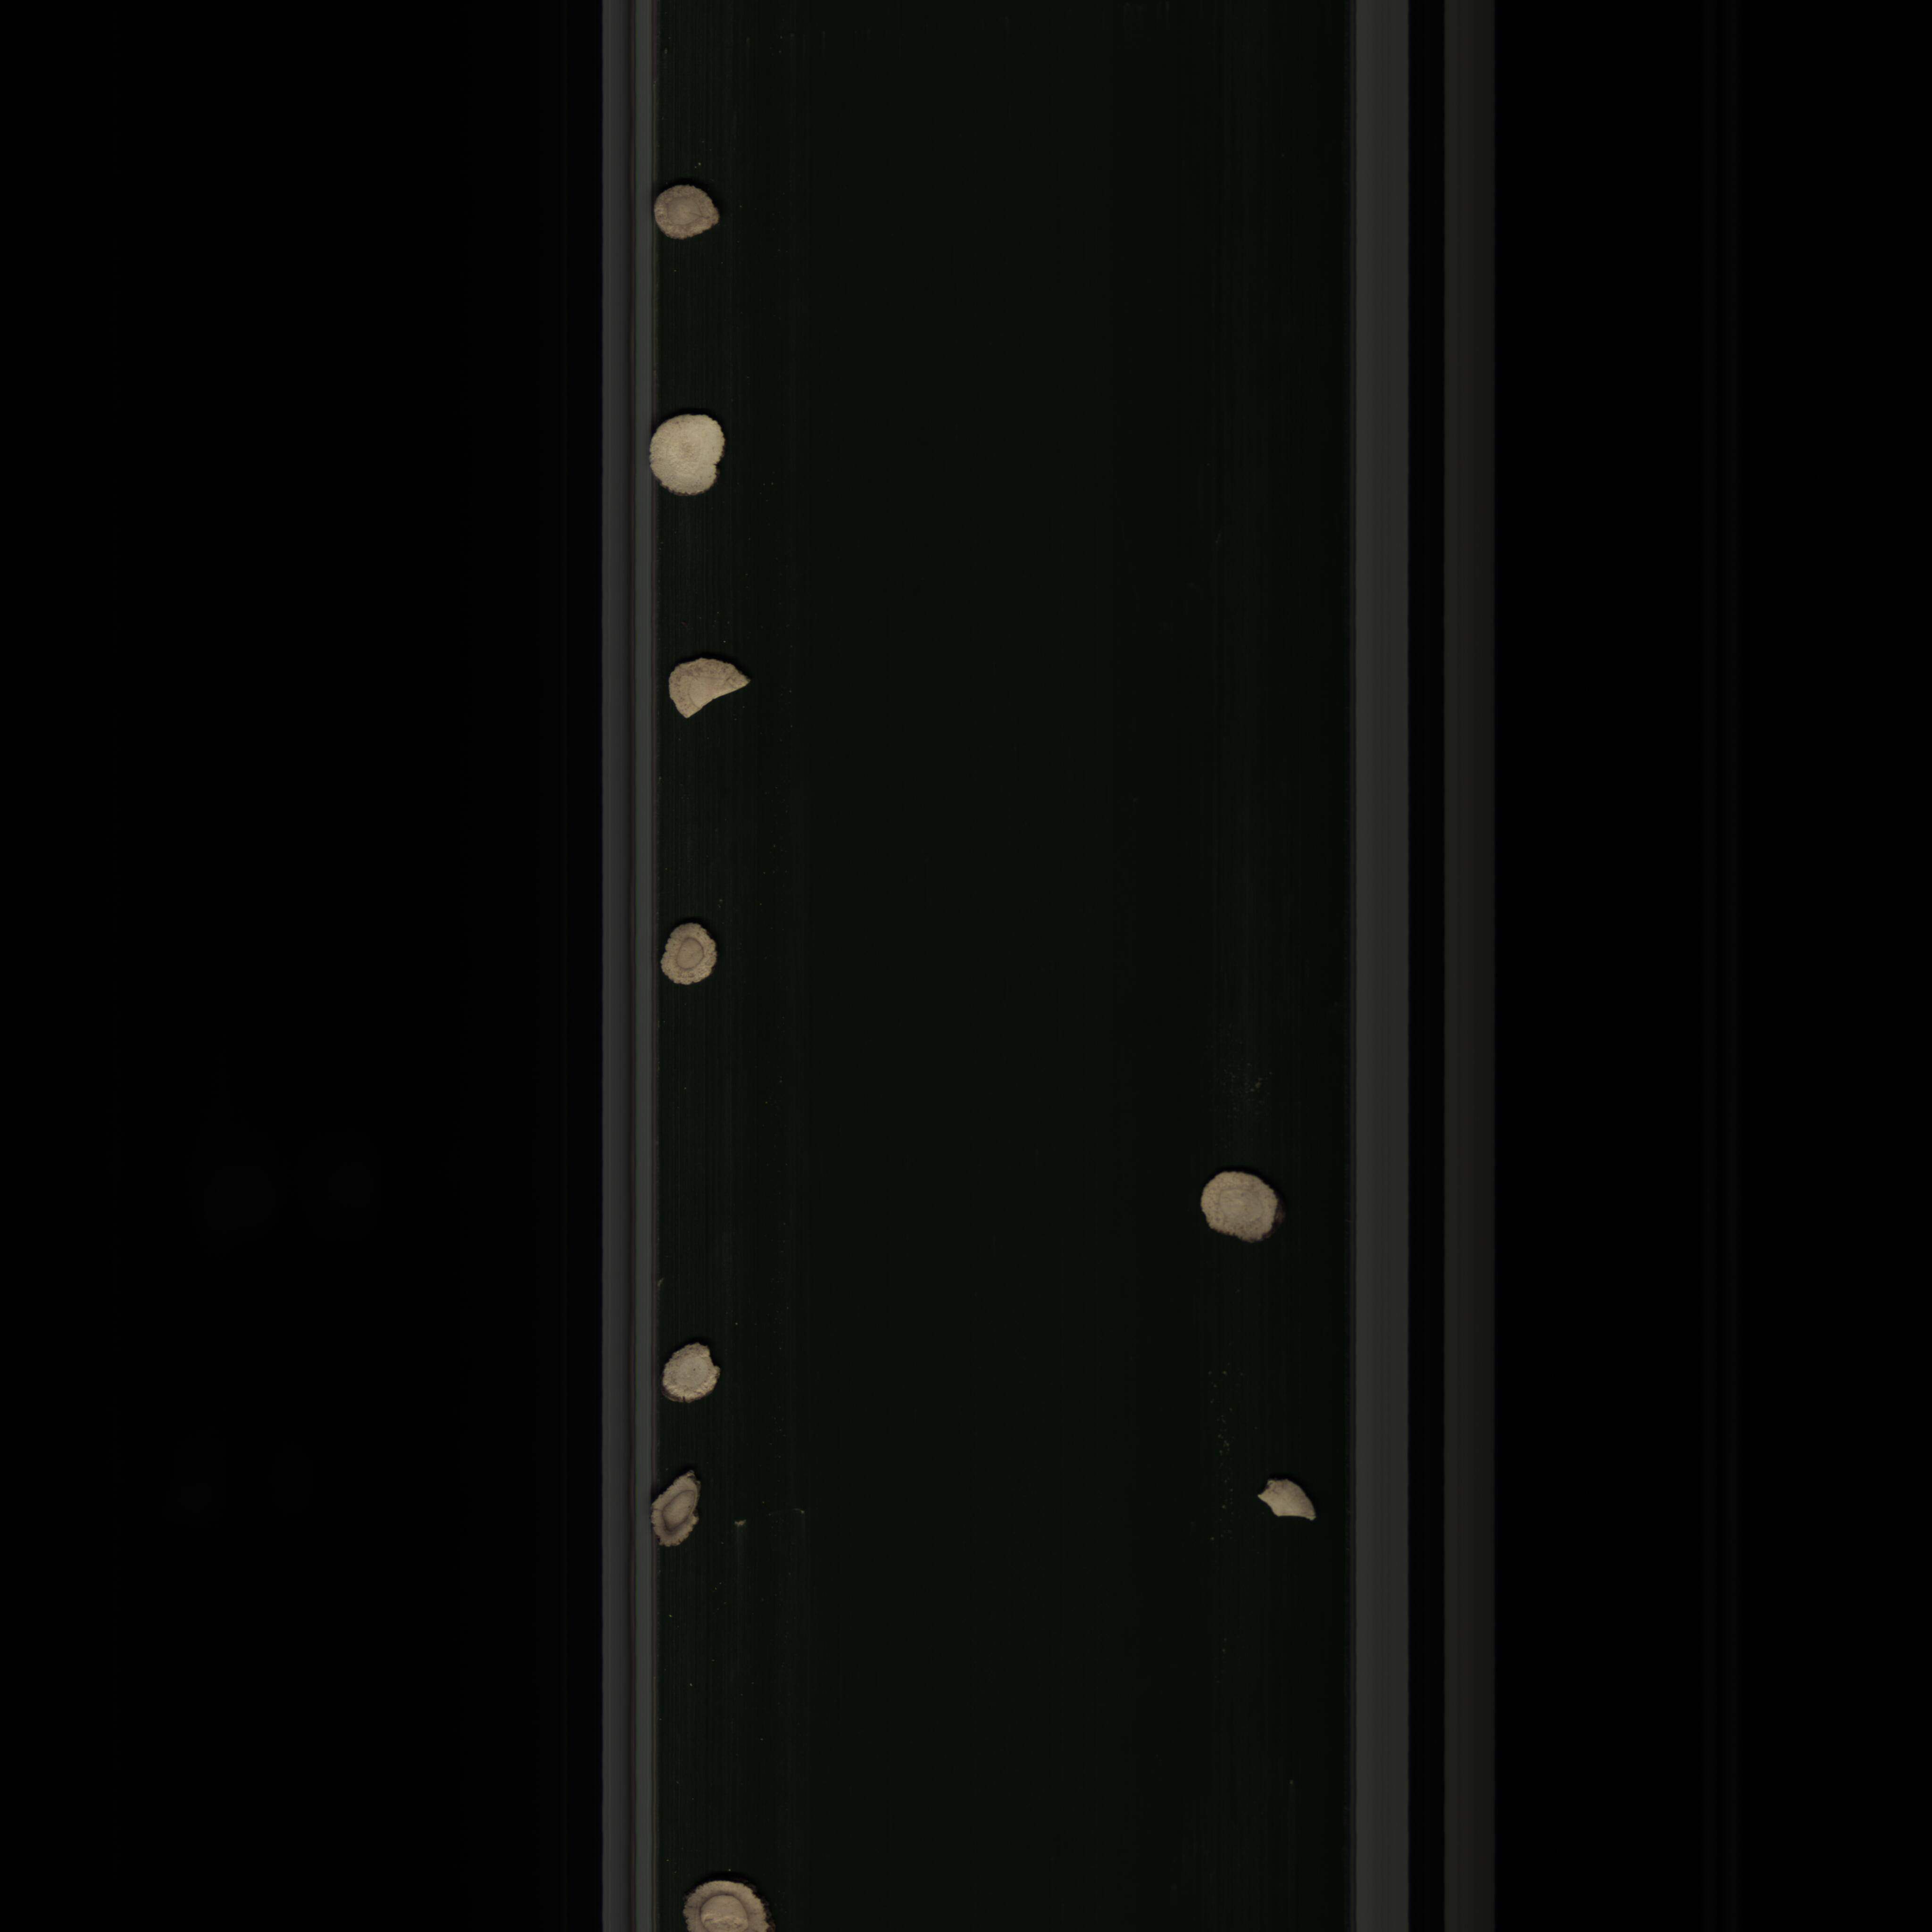debris: (663, 655, 759, 724), (658, 1334, 731, 1405), (1258, 1476, 1329, 1530)
moldy: (649, 1465, 713, 1552)
